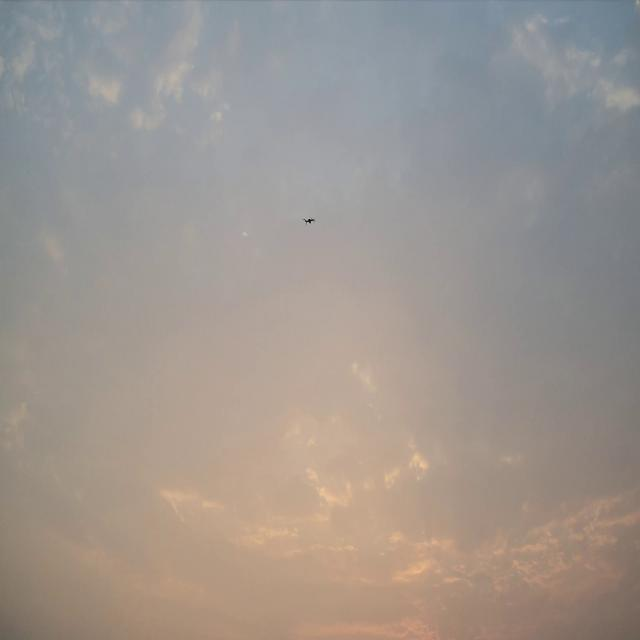UAV: (302, 217, 314, 224)
